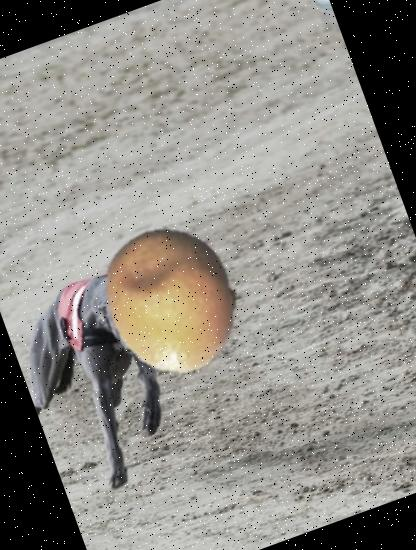Kumquats: (76, 205, 266, 396)
